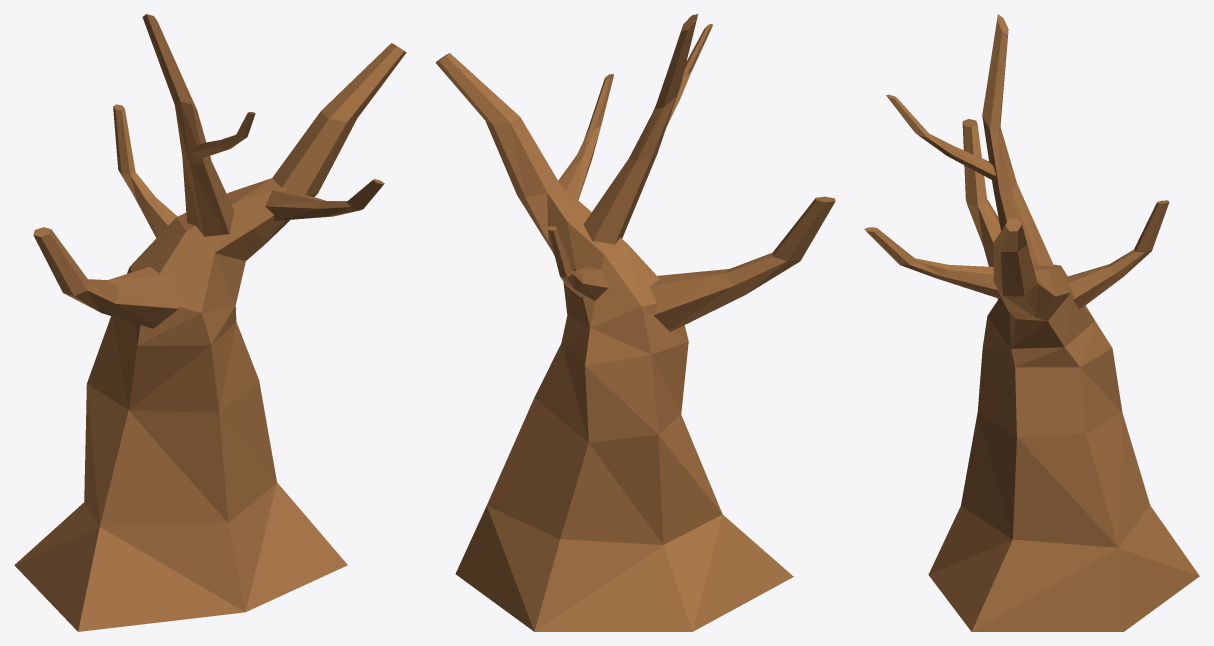
The model's file is tree_dead4.fbx.
3 renders of one model, left to right at view 1: azimuth 30°, elevation 25°; view 2: azimuth 150°, elevation 25°; view 3: azimuth 270°, elevation 25°, orthographic. The views are drawn at different scales.
Visible parts, largest first — view 1: tree_dead4; view 2: tree_dead4; view 3: tree_dead4.
Boxes of the visible parts, x1,y1,x2,y2 form: tree_dead4: (14, 14, 406, 631); tree_dead4: (435, 14, 835, 631); tree_dead4: (864, 14, 1199, 631).
Bounding box in the file's own units: 2.19 × 3.1 × 1.77.
